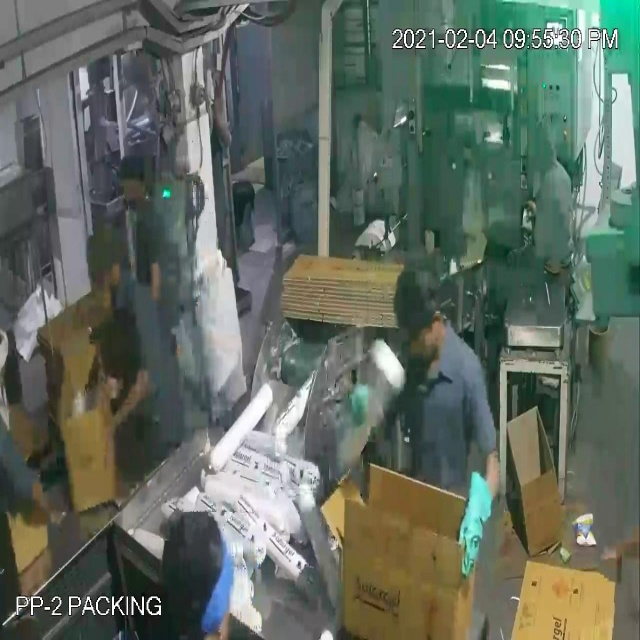Guantes: (452, 458, 505, 620)
Sin_guantes: (88, 359, 166, 447), (20, 465, 61, 524), (208, 90, 232, 152)
